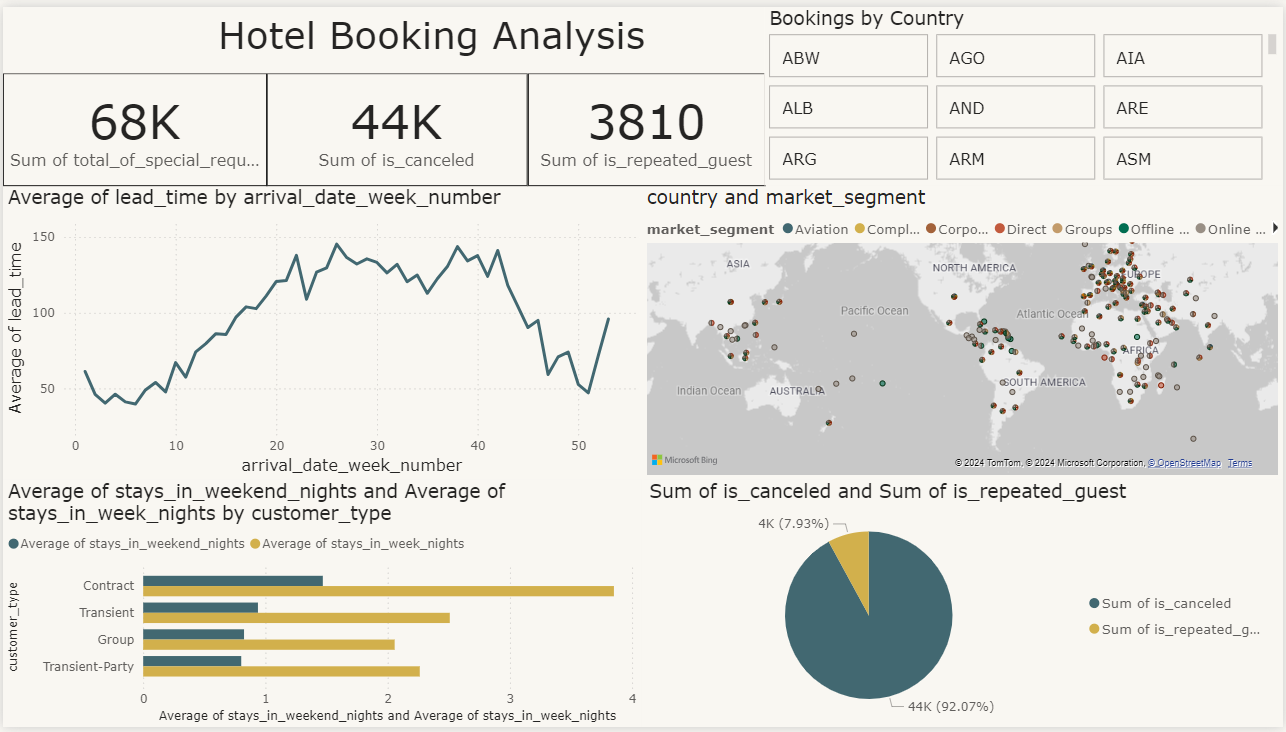

Layout of this report page (visuals, bound fields, positions):
{"tool":"powerbi","page":{"name":"Hotel Booking Analysis","canvas":[1280,720],"ordinal":0},"visuals":[{"type":"map","fields":{"Category":["hotel_bookings.country"],"Series":["hotel_bookings.market_segment"]},"box":[638.3,178.5,640.8,293.5],"z":0},{"type":"lineChart","fields":{"Y":["Avg(hotel_bookings.lead_time)"],"Category":["hotel_bookings.arrival_date_week_number"]},"box":[0,178.5,640.8,293.5],"z":1000},{"type":"pieChart","fields":{"Y":["Sum(hotel_bookings.is_canceled)","Sum(hotel_bookings.is_repeated_guest)"]},"box":[640.8,472,638.3,249.5],"z":2000},{"type":"clusteredBarChart","fields":{"Category":["hotel_bookings.customer_type"],"Y":["Avg(hotel_bookings.stays_in_weekend_nights)","Avg(hotel_bookings.stays_in_week_nights)"]},"box":[0,472,638.3,248.2],"z":3000},{"type":"card","fields":{"Values":["Sum(hotel_bookings.is_canceled)"]},"box":[264.1,66,260.5,112.5],"z":4000},{"type":"card","fields":{"Values":["Sum(hotel_bookings.is_repeated_guest)"]},"box":[524.6,66,237.2,112.5],"z":5000},{"type":"card","fields":{"Values":["Sum(hotel_bookings.total_of_special_requests)"]},"box":[0,66,264.1,112.5],"z":6000},{"type":"advancedSlicerVisual","title":"Bookings by Country","fields":{"Values":["hotel_bookings.country"]},"box":[761.8,0,517.3,178.5],"z":7000},{"type":"textbox","box":[0,0,761.8,66],"z":8000}]}

Visuals, with their boxes in screenshot pixels (x1, y1, x2, y2), scaled from the page's 1280x720 canvas onto the 1286x732 screenshot:
map - hotel_bookings.country x hotel_bookings.market_segment: left=641, top=181, right=1285, bottom=480
lineChart - Avg(hotel_bookings.lead_time) x hotel_bookings.arrival_date_week_number: left=0, top=181, right=644, bottom=480
pieChart - Sum(hotel_bookings.is_canceled) x Sum(hotel_bookings.is_repeated_guest): left=644, top=480, right=1285, bottom=731
clusteredBarChart - hotel_bookings.customer_type x Avg(hotel_bookings.stays_in_weekend_nights): left=0, top=480, right=641, bottom=731
card - Sum(hotel_bookings.is_canceled): left=265, top=67, right=527, bottom=181
card - Sum(hotel_bookings.is_repeated_guest): left=527, top=67, right=765, bottom=181
card - Sum(hotel_bookings.total_of_special_requests): left=0, top=67, right=265, bottom=181
"Bookings by Country" advancedSlicerVisual: left=765, top=0, right=1285, bottom=181
textbox: left=0, top=0, right=765, bottom=67
